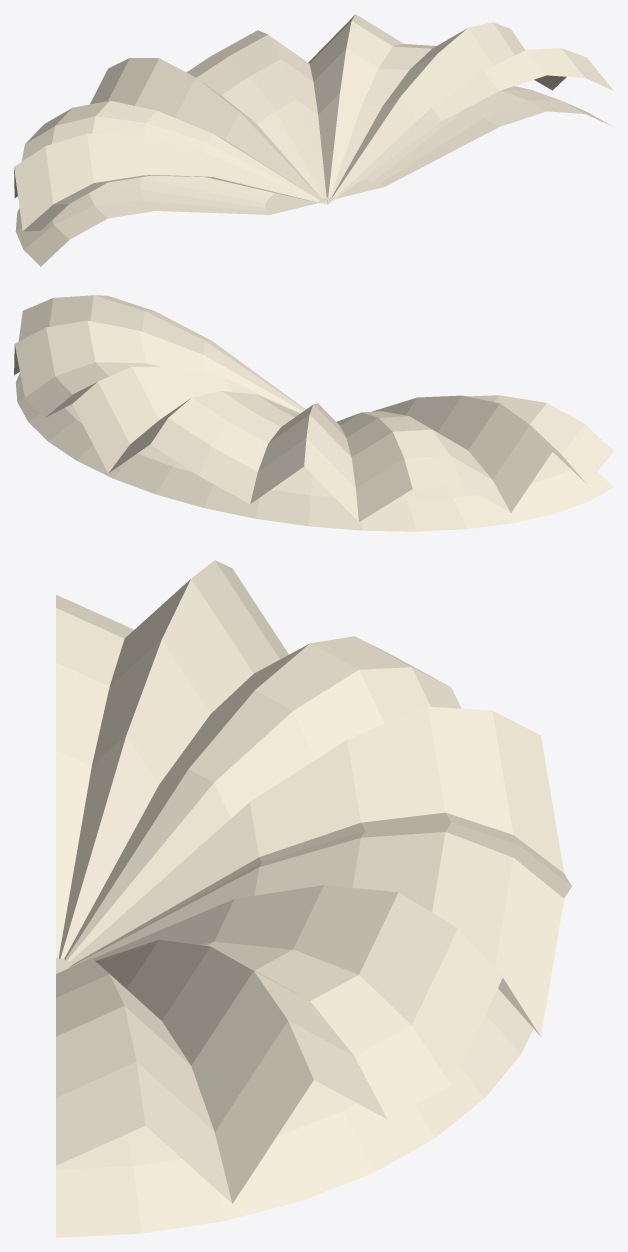
Rendered from grotto_scallop_shell_LOD0_roblox.fbx.
3 renders of one model, top to bottom at view 1: azimuth 30°, elevation 25°; view 2: azimuth 150°, elevation 25°; view 3: azimuth 270°, elevation 25°, orthographic. The views are drawn at different scales.
Visible parts, largest first — view 1: scallop_Shell; view 2: scallop_Shell; view 3: scallop_Shell.
Part boxes in pixels (box(x1,y1,x2,y2)): scallop_Shell: box(14, 14, 613, 266); scallop_Shell: box(14, 295, 613, 531); scallop_Shell: box(56, 560, 571, 1237).
Size of the model in its own units: 0.3 by 0.117 by 0.0486.
